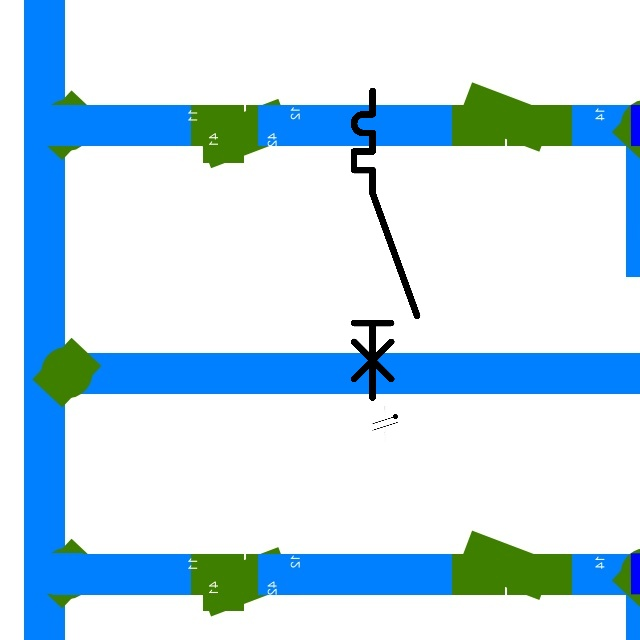interruptor_termomagnetico: (346, 83, 425, 405)
